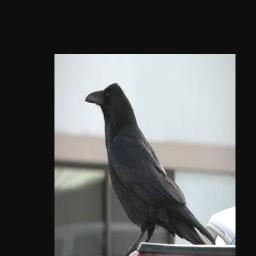Crow: (84, 81, 217, 256)
